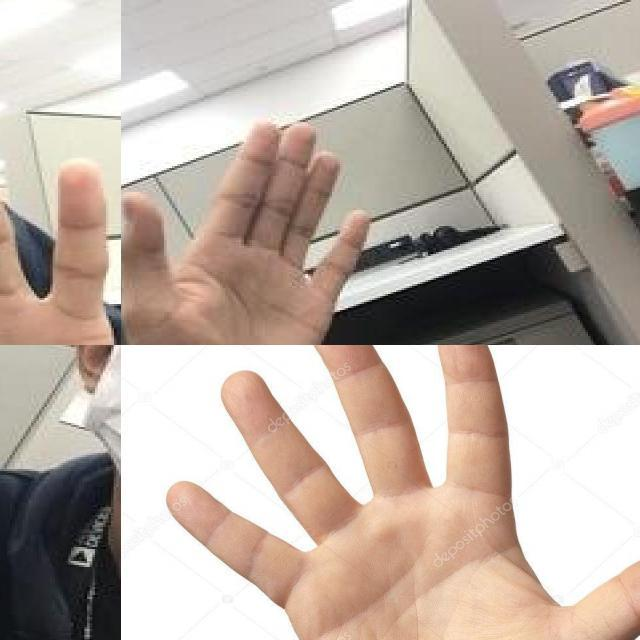hand: (165, 345, 640, 640), (121, 118, 372, 345), (0, 345, 121, 615), (0, 80, 121, 345)
